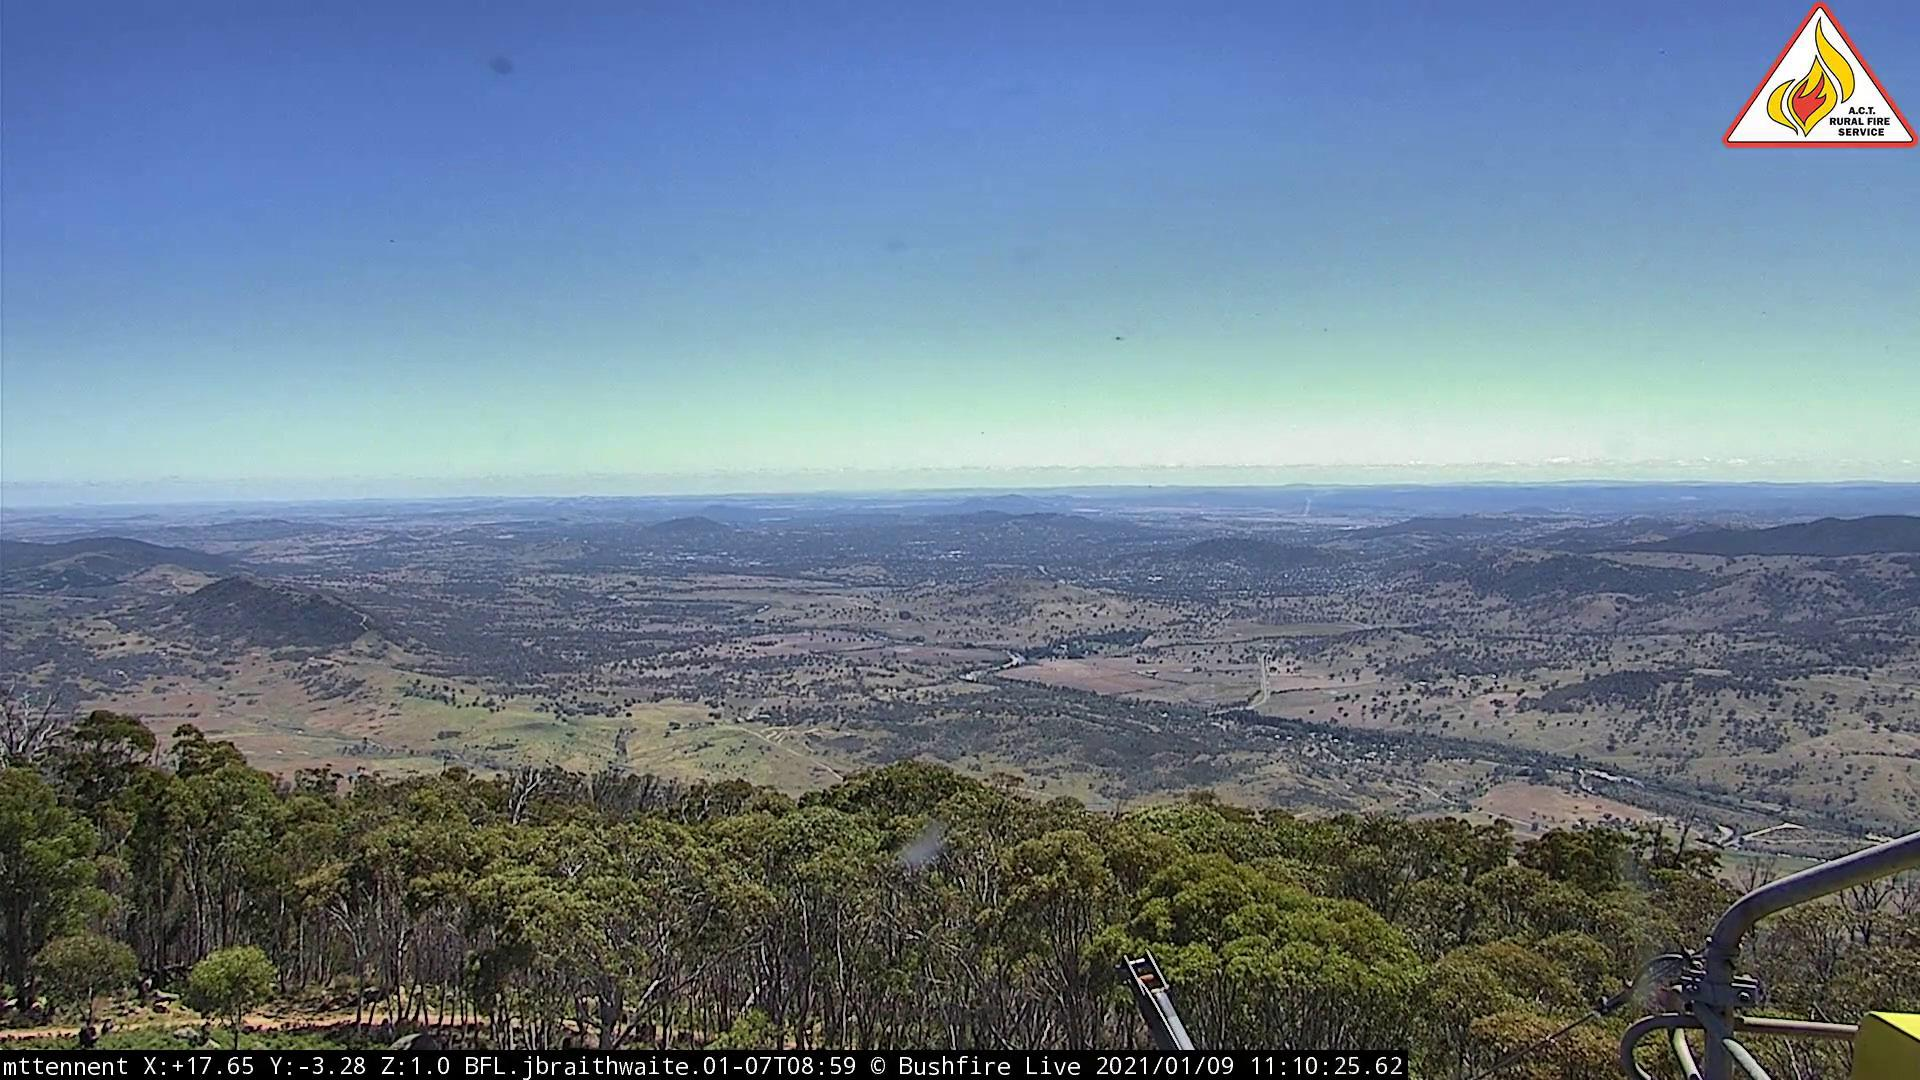Smoke: (1302, 492, 1323, 521)
